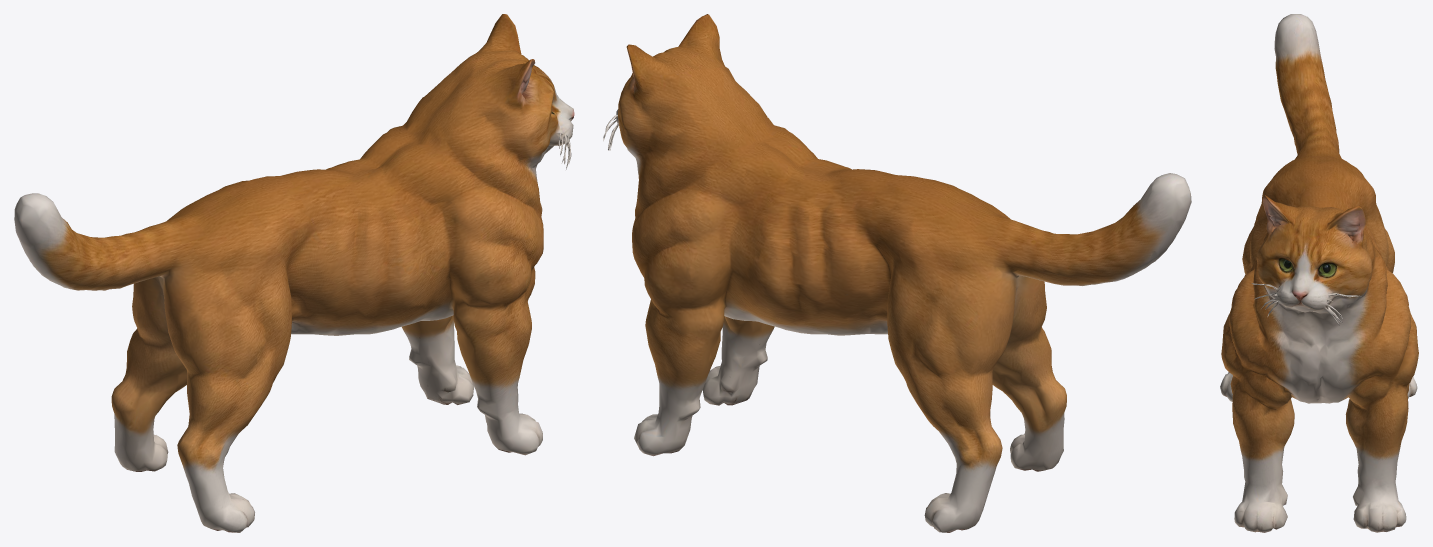
Rendered from BURLYPAW.glb.
3 views of the same model, side by side, from view 1: azimuth 30°, elevation 25°; view 2: azimuth 150°, elevation 25°; view 3: azimuth 270°, elevation 25° (orthographic). The views are drawn at different scales.
Parts seen in each view (by area): view 1: tripo_node_4e87ffeb-2de9-4d6d-8f95-0755313d1712; view 2: tripo_node_4e87ffeb-2de9-4d6d-8f95-0755313d1712; view 3: tripo_node_4e87ffeb-2de9-4d6d-8f95-0755313d1712.
Part boxes in pixels (<box>): tripo_node_4e87ffeb-2de9-4d6d-8f95-0755313d1712: <box>14,14,574,532</box>; tripo_node_4e87ffeb-2de9-4d6d-8f95-0755313d1712: <box>603,14,1191,532</box>; tripo_node_4e87ffeb-2de9-4d6d-8f95-0755313d1712: <box>1220,14,1418,532</box>.
Size of the model in its own units: 1.53 by 1 by 0.53.
1 material, 1 textured.
